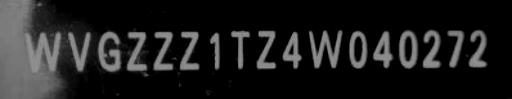letter: (304, 24, 344, 71), (22, 28, 62, 73), (370, 25, 398, 70), (95, 29, 123, 72), (176, 26, 202, 71), (66, 27, 92, 72), (150, 28, 176, 71), (396, 26, 420, 71), (420, 26, 444, 71), (228, 27, 252, 72), (254, 27, 278, 72), (346, 28, 370, 71), (124, 29, 148, 72), (280, 28, 304, 69), (467, 28, 491, 69), (444, 28, 466, 69), (205, 27, 223, 72)
